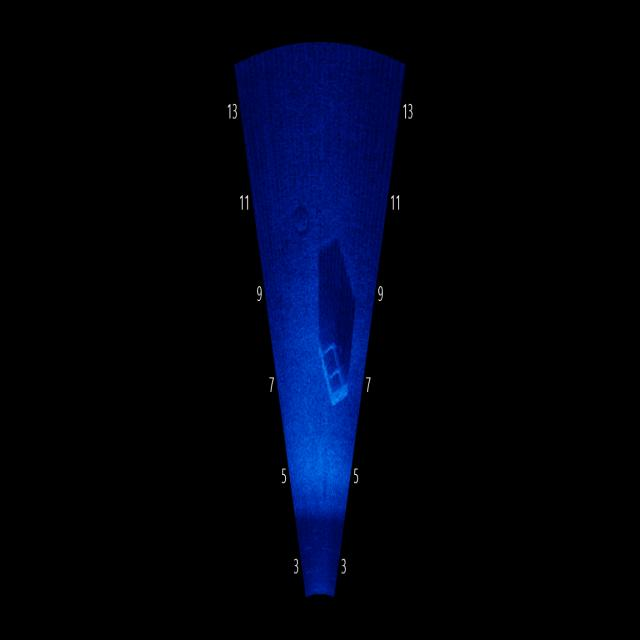square: (317, 336, 348, 408)
